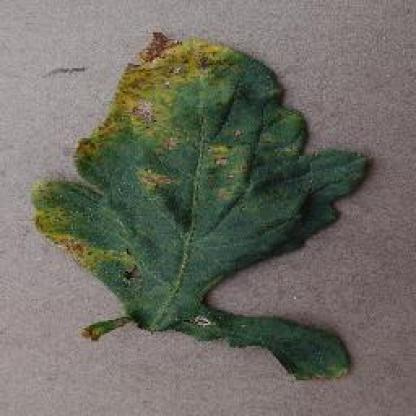bad leaf: (74, 35, 328, 344)
